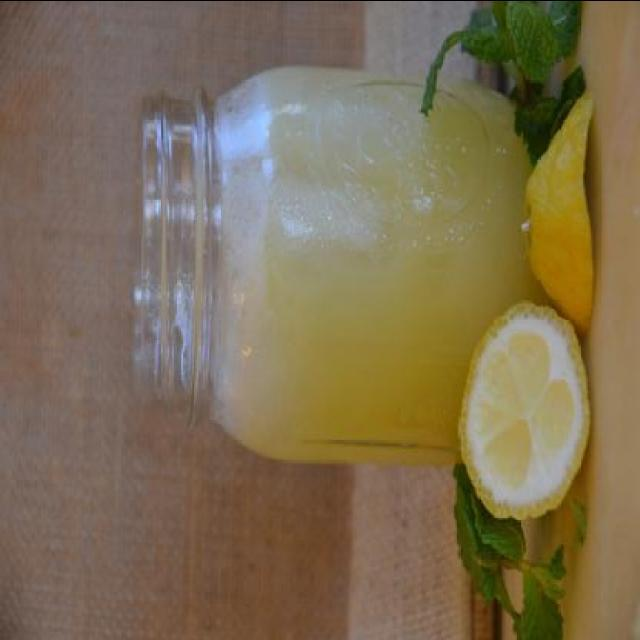Lemon: (453, 304, 589, 526)
